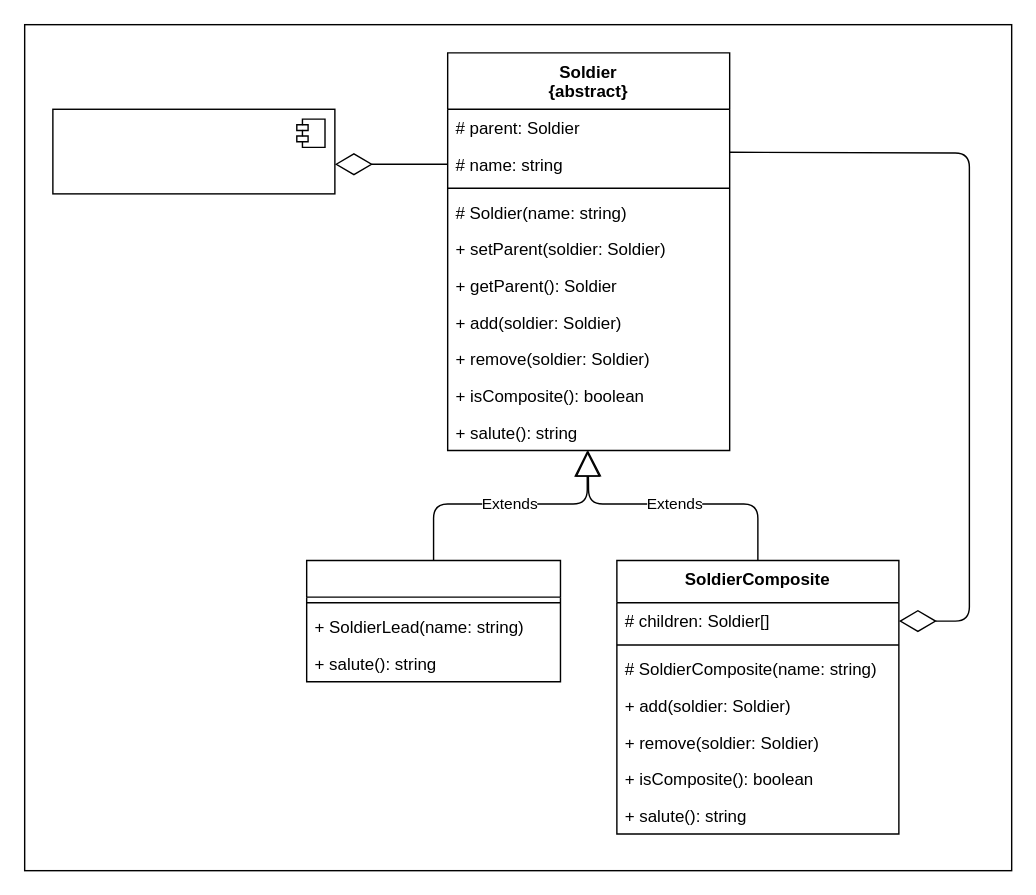
This 1036x895 diagram has some shape labels left out. The shapes that lost their labels are listed below. From the top down, each one's box as (x1, y1, x2, y2) in pixels, then its label:
(51, 108, 335, 194): Composite.component
(305, 559, 560, 682): SoldierLeaf
